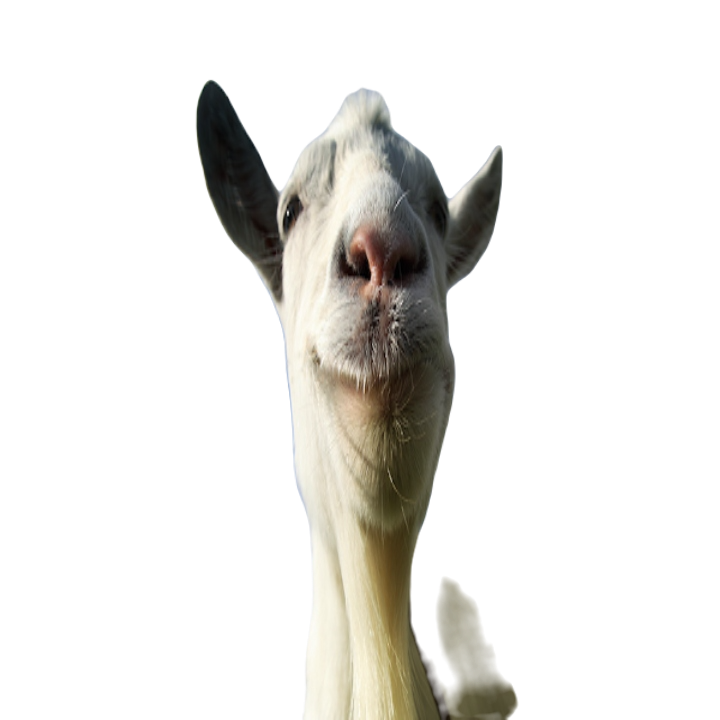Goat: (195, 67, 518, 719)
